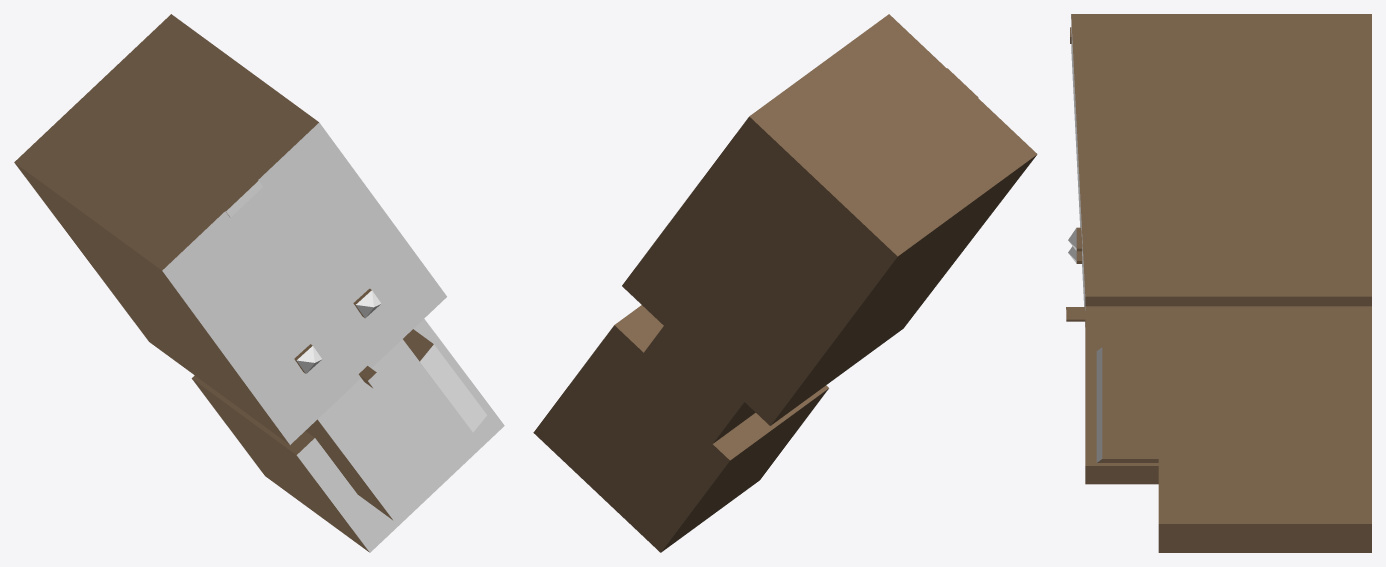
The picture shows the model from 3 angles, left to right: view 1: azimuth 30°, elevation 25°; view 2: azimuth 150°, elevation 25°; view 3: azimuth 270°, elevation 25°; orthographic projection. The views are drawn at different scales.
Visible parts, largest first — view 1: City_PC-08695; view 2: City_PC-08695; view 3: City_PC-08695.
Part boxes in pixels (x1,y1,x2,y2): City_PC-08695: (14, 14, 504, 552); City_PC-08695: (533, 14, 1037, 552); City_PC-08695: (1066, 14, 1371, 552).
Size of the model in its own units: 2291 by 2753 by 1548.
